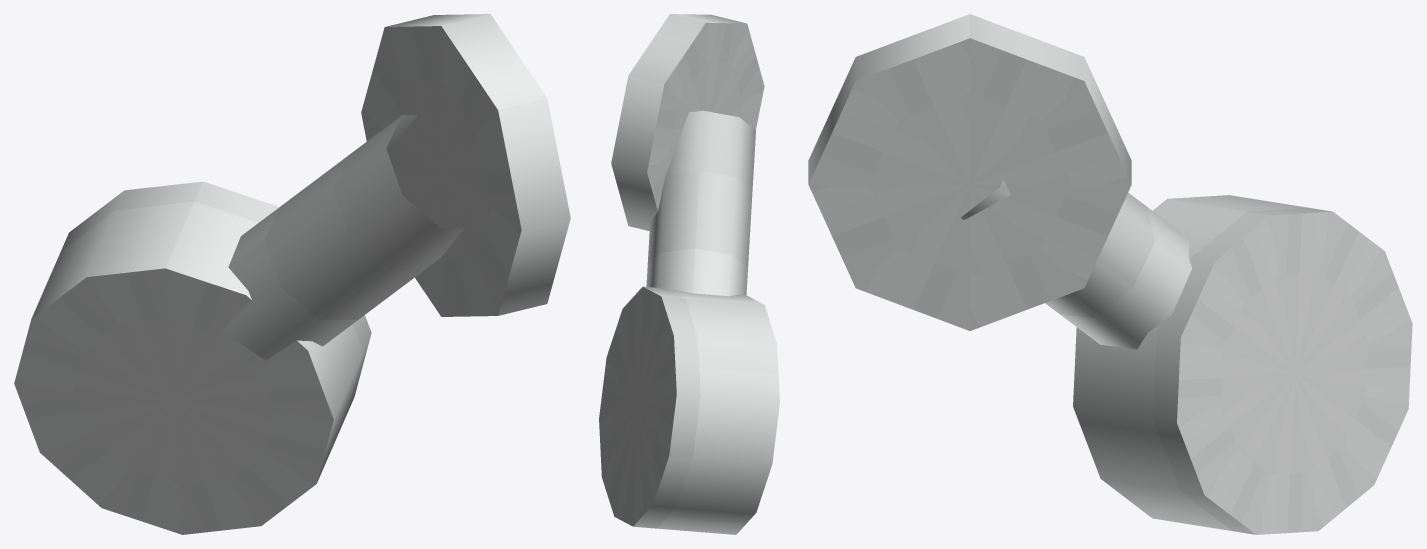
Rendered from nycsignalarm_stub_230.obj.
3 renders of one model, left to right at view 1: azimuth 30°, elevation 25°; view 2: azimuth 150°, elevation 25°; view 3: azimuth 270°, elevation 25°, orthographic. The views are drawn at different scales.
Parts seen in each view (by area): view 1: nycsignalarm_stub_230; view 2: nycsignalarm_stub_230; view 3: nycsignalarm_stub_230.
Part boxes in pixels (x1,y1,x2,y2): nycsignalarm_stub_230: (14, 14, 570, 534); nycsignalarm_stub_230: (599, 14, 779, 534); nycsignalarm_stub_230: (808, 14, 1412, 534).
Size of the model in its own units: 0.3937 by 0.6786 by 0.654.
